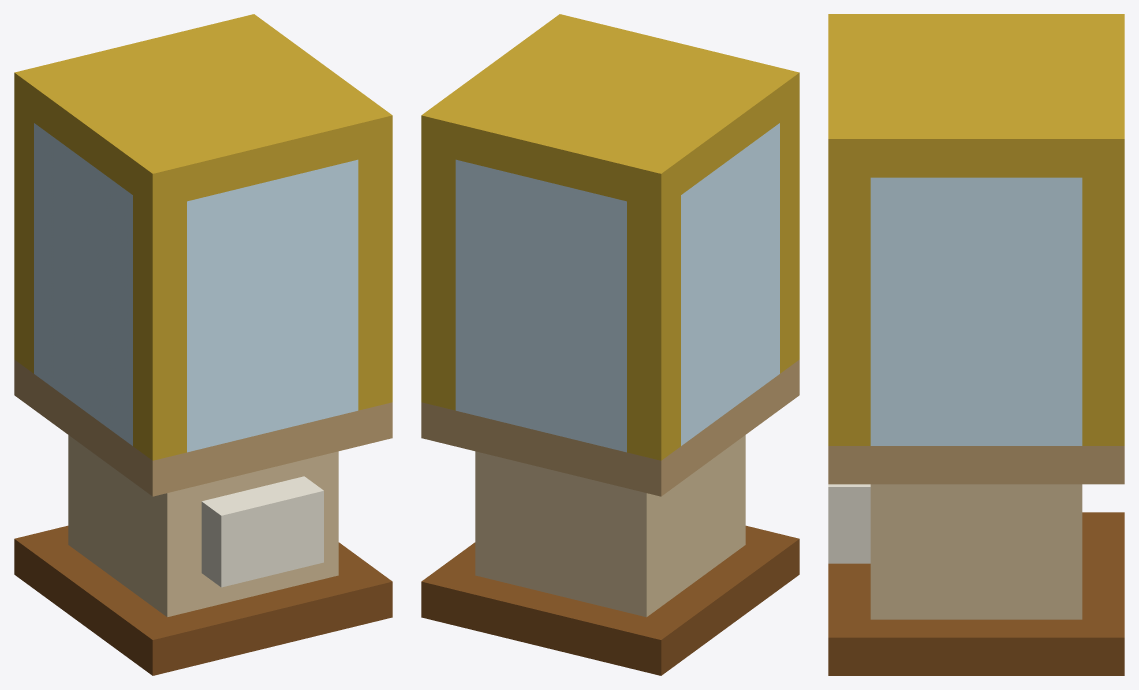
The model's file is Shop_Museum.fbx.
The picture shows the model from 3 angles, left to right: view 1: azimuth 30°, elevation 25°; view 2: azimuth 150°, elevation 25°; view 3: azimuth 270°, elevation 25°; orthographic projection. The views are drawn at different scales.
Parts seen in each view (by area): view 1: Shop_Museum; view 2: Shop_Museum; view 3: Shop_Museum.
Part boxes in pixels (x1,y1,x2,y2): Shop_Museum: (14, 14, 392, 675); Shop_Museum: (421, 14, 799, 675); Shop_Museum: (828, 14, 1124, 675).
Bounding box in the file's own units: 7 × 14 × 7.
